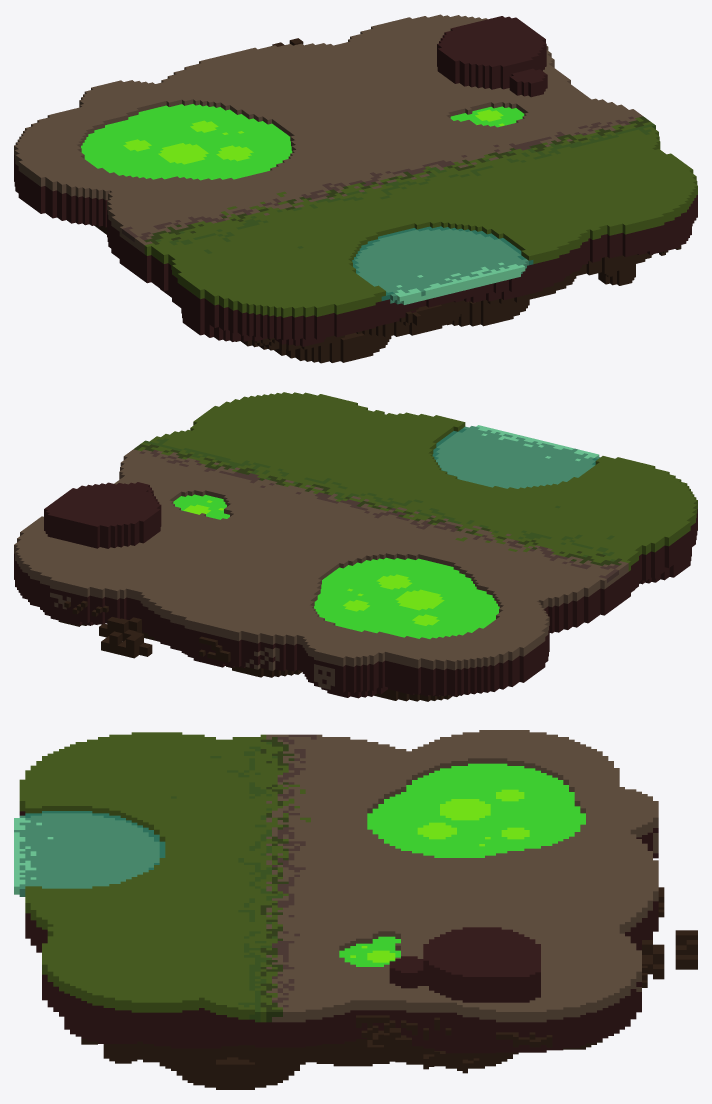
Rendered from level 2.obj.
3 renders of one model, top to bottom at view 1: azimuth 30°, elevation 25°; view 2: azimuth 150°, elevation 25°; view 3: azimuth 270°, elevation 25°, orthographic. The views are drawn at different scales.
Bounding box in the file's own units: 121 × 34 × 122.
1 material, 1 textured.
